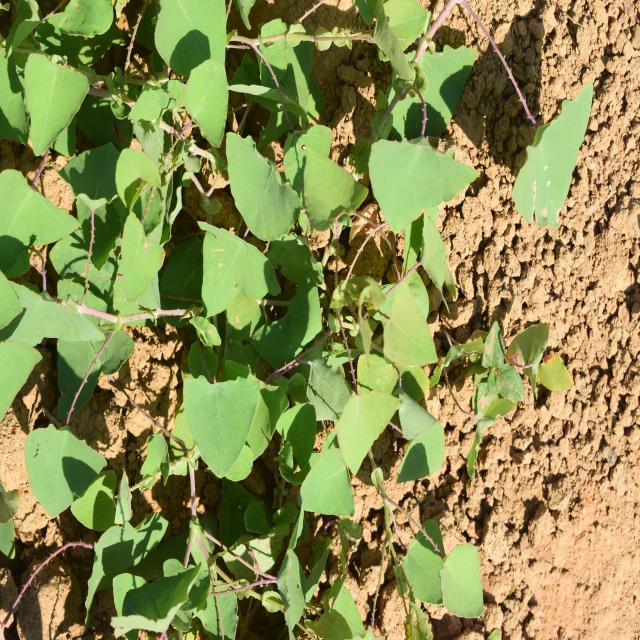Asiatic_Smartweed: (0, 180, 138, 516), (284, 285, 451, 515), (178, 220, 310, 505), (359, 94, 486, 300), (231, 133, 362, 257)
